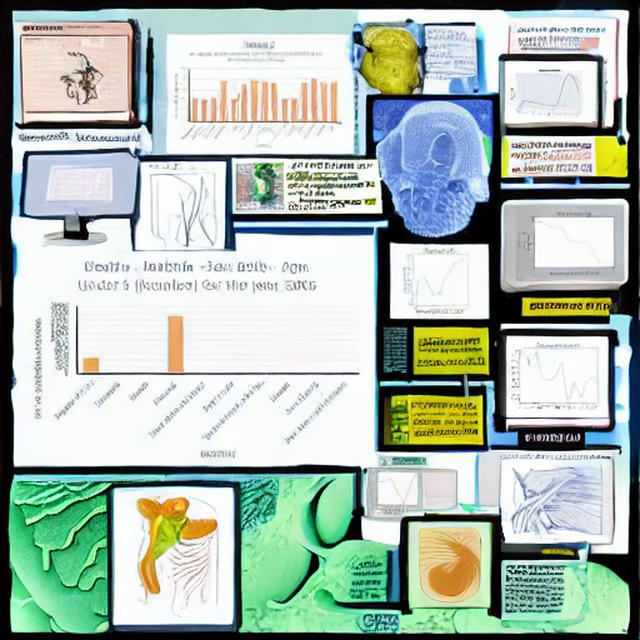Graph: (28, 252, 365, 463), (169, 48, 342, 153), (522, 204, 624, 281), (507, 338, 607, 413), (391, 246, 488, 313), (507, 63, 590, 120), (370, 468, 424, 509)
